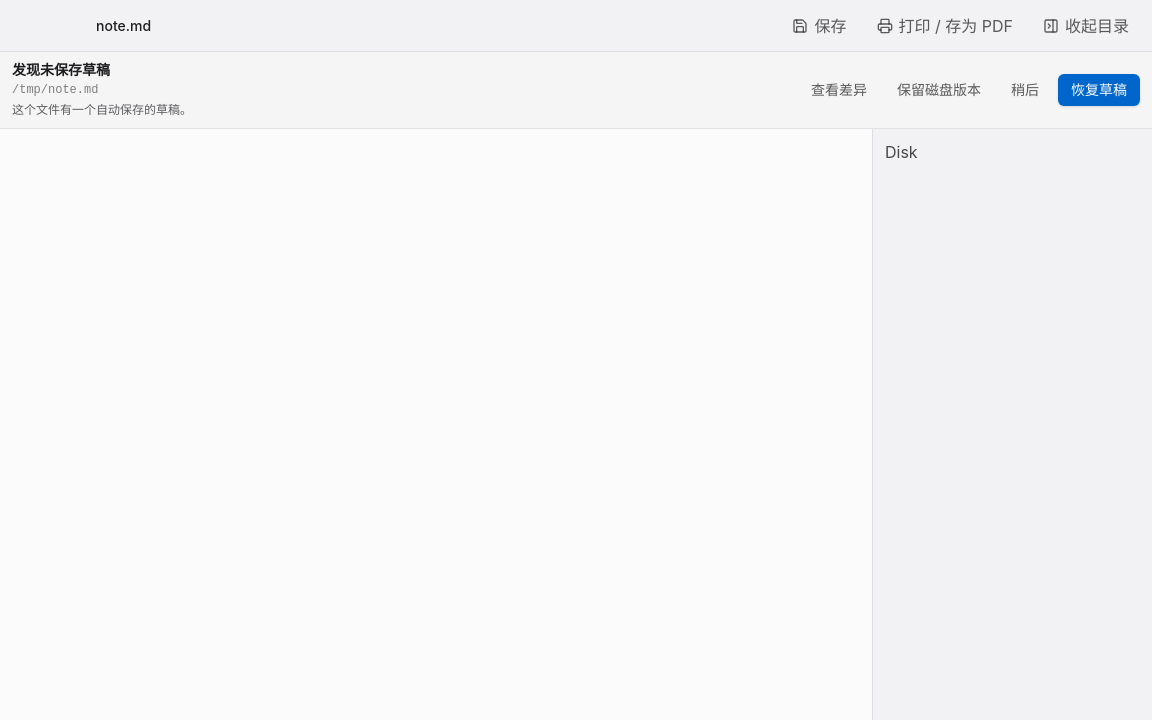
Test: DocumentShell draft recovery › opens a readonly diff for a recovered draft
The image size is (1152, 720).
Click the button "查看差异" at point(839, 90), box x1=800 y1=76 x2=878 y2=104
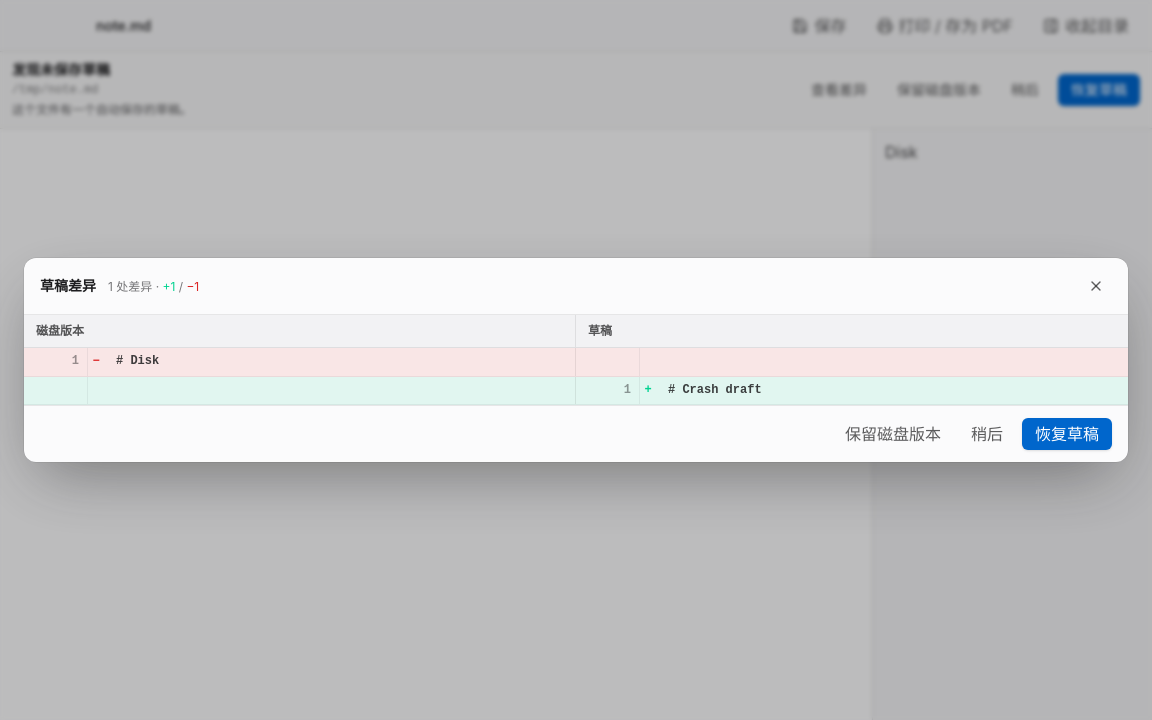
Expected: the text "磁盘版本" is shown, x1=886 y1=76 x2=992 y2=104
Expected: the text "草稿差异" is shown, x1=40 y1=276 x2=96 y2=296
Expected: the text "# Crash draft" is shown, x1=668 y1=382 x2=762 y2=396
